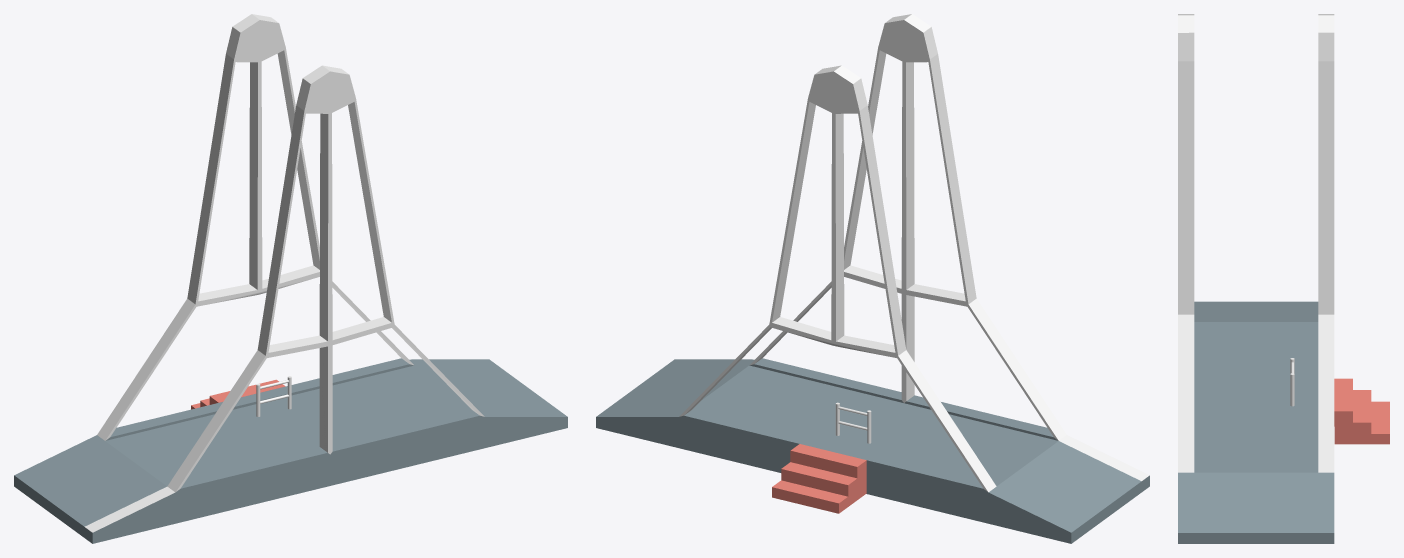
The picture shows the model from 3 angles, left to right: view 1: azimuth 30°, elevation 25°; view 2: azimuth 150°, elevation 25°; view 3: azimuth 270°, elevation 25°; orthographic projection.
Visible parts, largest first — view 1: BASE; view 2: BASE, Stairs; view 3: BASE, Stairs.
Boxes of the visible parts, <box> form: BASE: <box>14,14,567,543</box>; BASE: <box>596,14,1149,543</box>; Stairs: <box>772,444,866,513</box>; BASE: <box>1178,14,1334,543</box>; Stairs: <box>1334,378,1389,444</box>.
Size of what is drawn, in the model's own units: 10 by 8.34 by 3.87.
